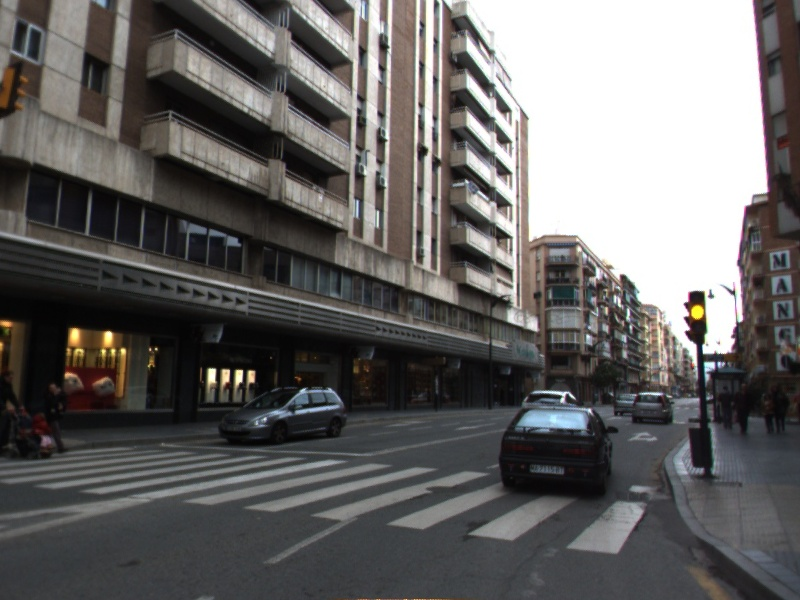STRAIGHT_RIGHT: (624, 430, 659, 444)
